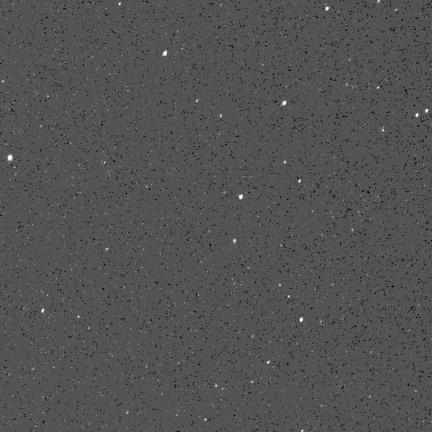blob: (8, 155, 14, 162), (163, 50, 167, 56), (281, 101, 286, 105), (325, 7, 330, 11), (239, 195, 243, 199), (41, 308, 44, 313), (233, 239, 236, 243), (300, 318, 303, 322), (425, 109, 428, 113), (416, 114, 418, 117)
